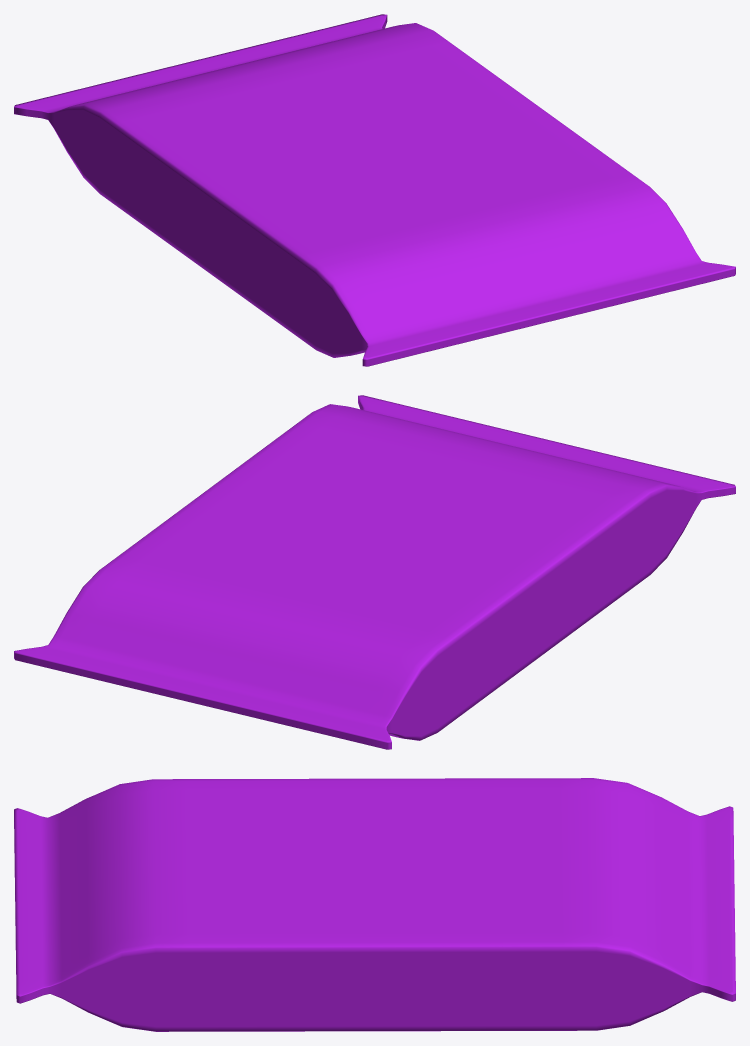
File: seed-pack-violet.glb
The picture shows the model from 3 angles, top to bottom: view 1: azimuth 30°, elevation 25°; view 2: azimuth 150°, elevation 25°; view 3: azimuth 270°, elevation 25°; orthographic projection. The views are drawn at different scales.
Visible parts, largest first — view 1: Box001.003; view 2: Box001.003; view 3: Box001.003.
Boxes of the visible parts, x1,y1,x2,y2 form: Box001.003: (14,14,735,366); Box001.003: (14,395,735,749); Box001.003: (14,778,735,1031).
Size of the model in its own units: 0.1425 by 0.0302 by 0.2286.
